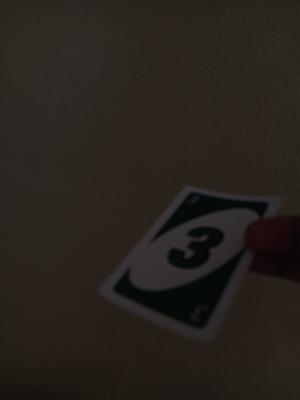num_3: (162, 221, 236, 276), (180, 297, 212, 331)
